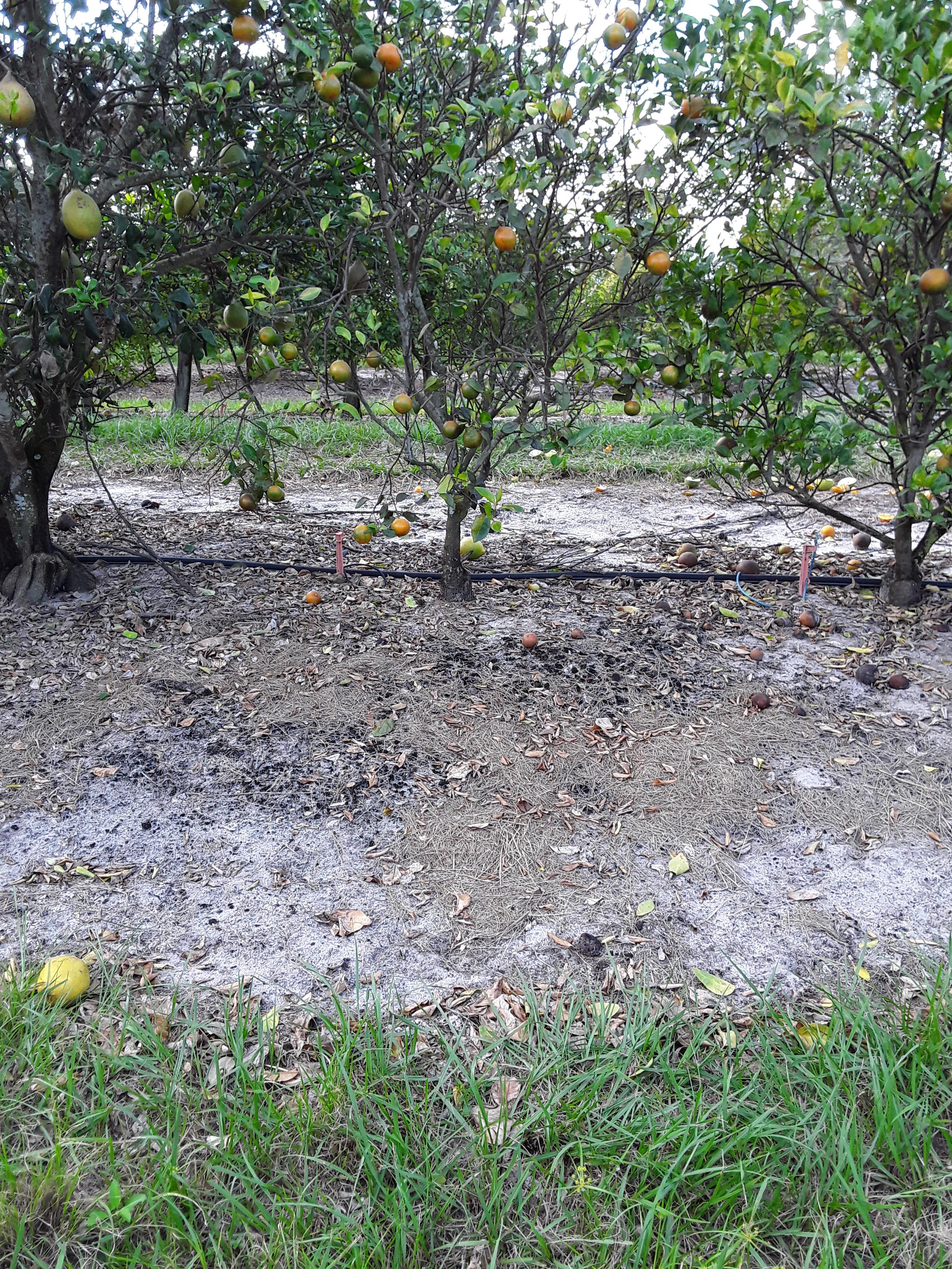fruit_on_ground: (65, 188, 104, 241), (0, 83, 34, 135), (341, 258, 373, 297), (708, 430, 740, 461), (923, 264, 952, 296), (317, 69, 343, 104), (680, 97, 707, 128), (231, 11, 257, 43), (354, 61, 381, 91), (377, 44, 401, 76), (222, 298, 246, 330), (648, 246, 674, 275), (603, 19, 626, 51), (174, 193, 198, 223), (931, 446, 951, 480), (218, 146, 242, 174), (553, 101, 576, 130), (494, 223, 516, 253), (460, 536, 482, 565), (620, 10, 644, 36), (394, 394, 417, 419), (261, 321, 282, 348), (659, 360, 680, 387), (330, 357, 352, 382), (936, 188, 950, 224), (464, 432, 483, 454), (267, 485, 285, 508), (284, 343, 302, 366), (444, 416, 462, 437), (365, 347, 383, 367), (628, 399, 645, 420)
fruit_on_tree: (39, 953, 93, 1014), (734, 557, 764, 583), (820, 474, 845, 496), (744, 480, 768, 502), (871, 505, 896, 526), (353, 520, 373, 546), (857, 663, 879, 686), (677, 547, 696, 572), (772, 540, 794, 561), (749, 690, 768, 711), (851, 536, 870, 556), (886, 668, 904, 687), (238, 491, 254, 512), (392, 515, 408, 536), (801, 608, 817, 627), (522, 629, 538, 648), (820, 525, 835, 544), (305, 588, 320, 607)
